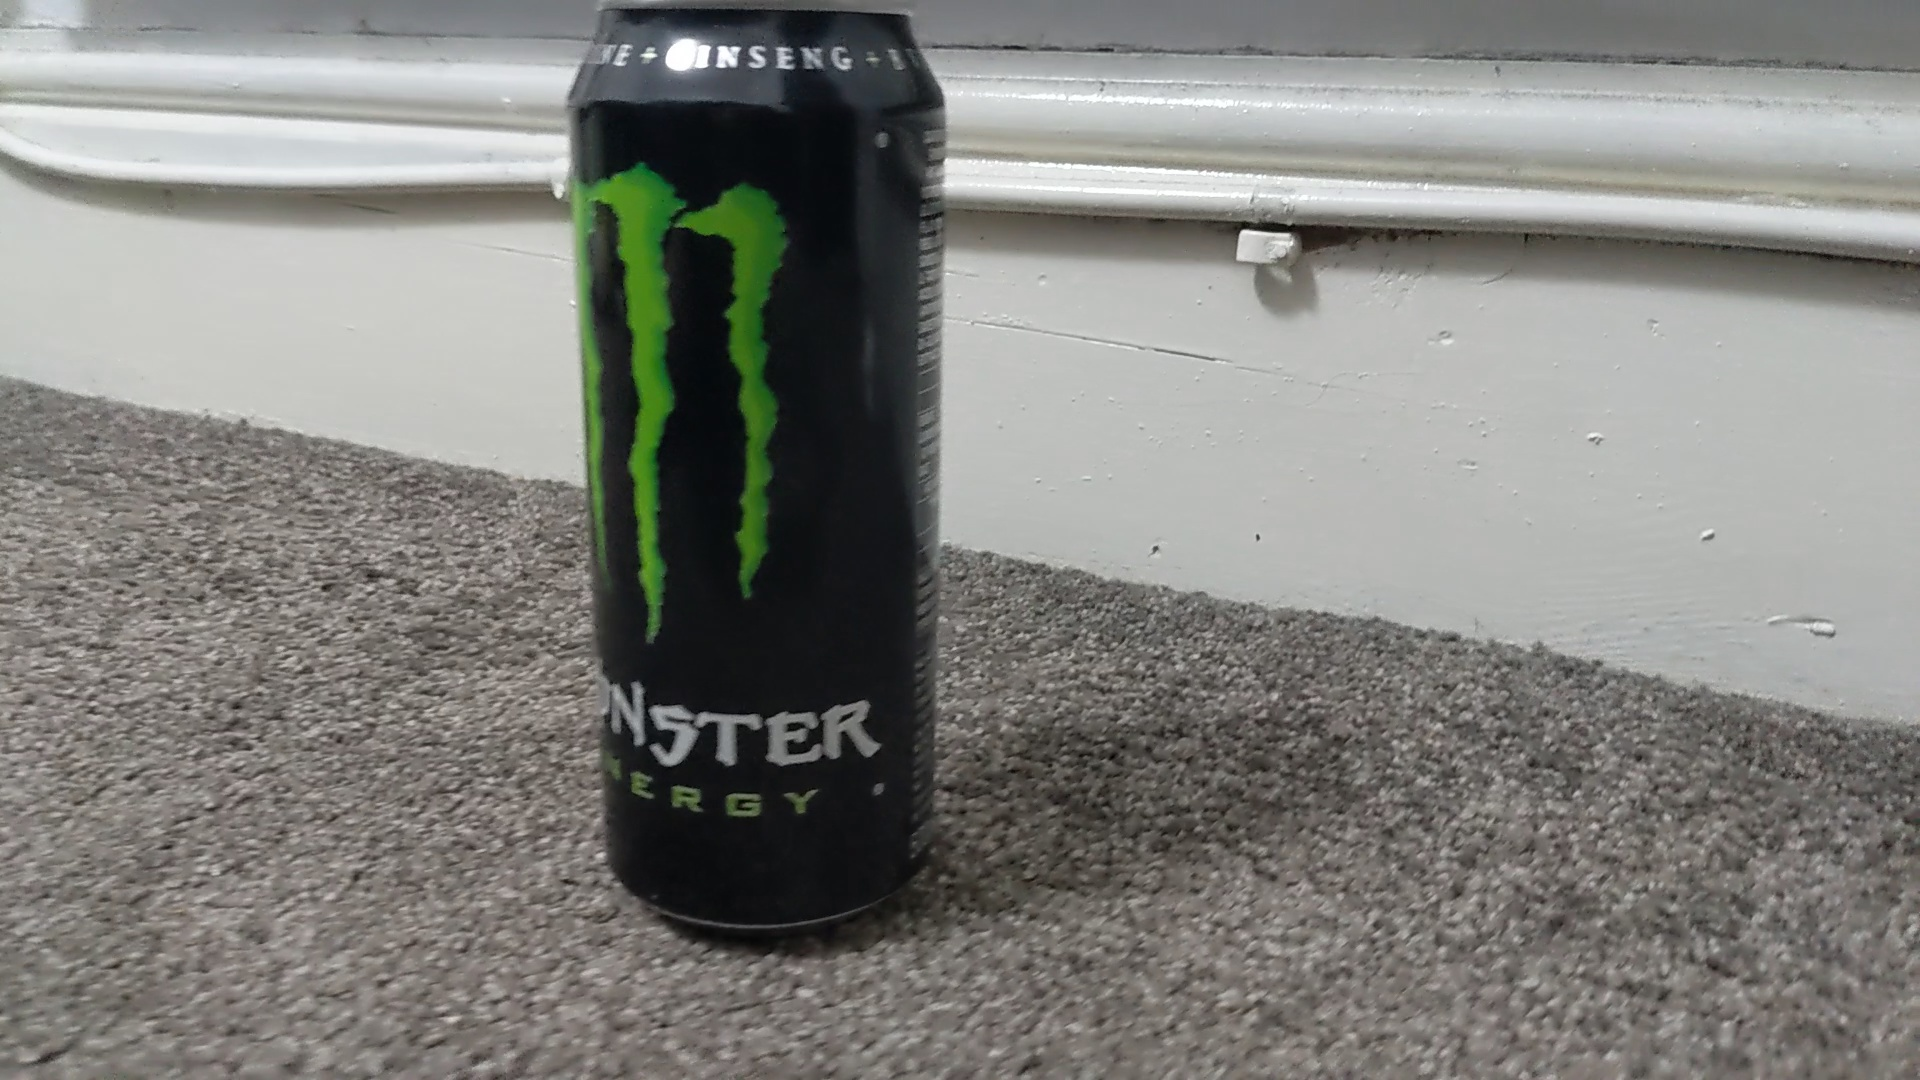monster-original: (566, 1, 948, 938)
